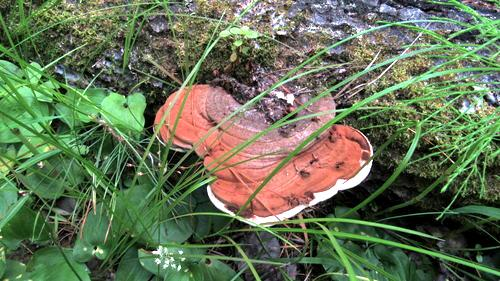Ganoderma - Fruit Body: (155, 78, 374, 227)
